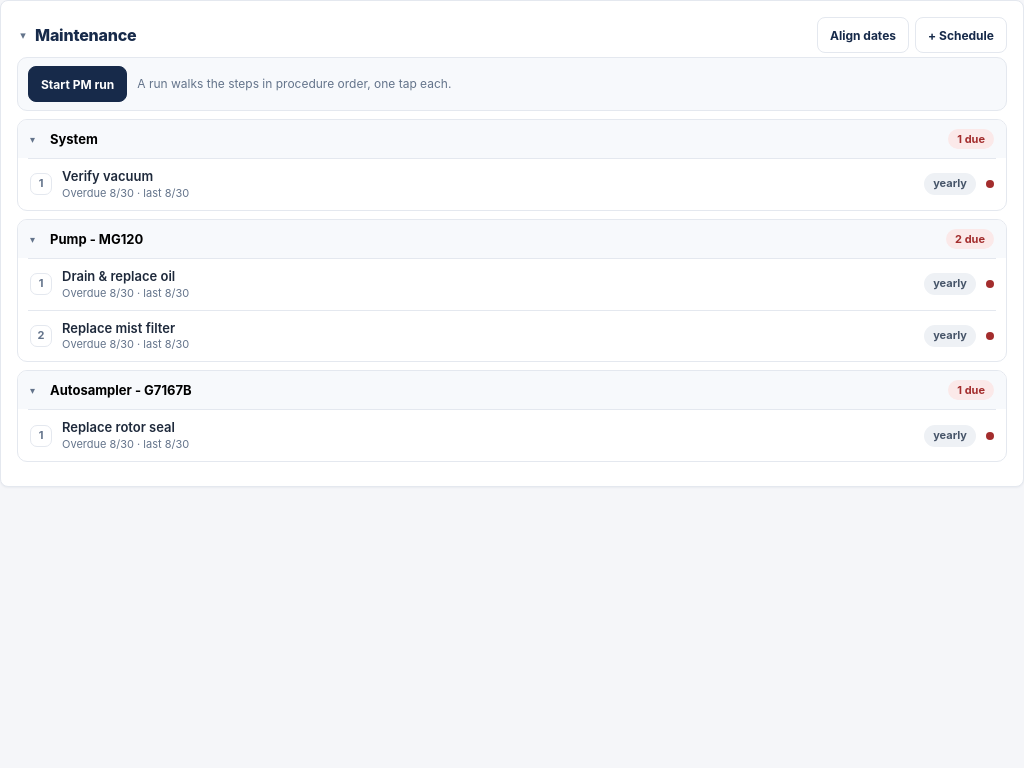
Test: the pile becomes modules › keeps the verbs off the row - they live behind it
Check: the text "Complete now" is not shown
Click the text "Drain & replace oil" at (119, 276), box [62,268,175,284]
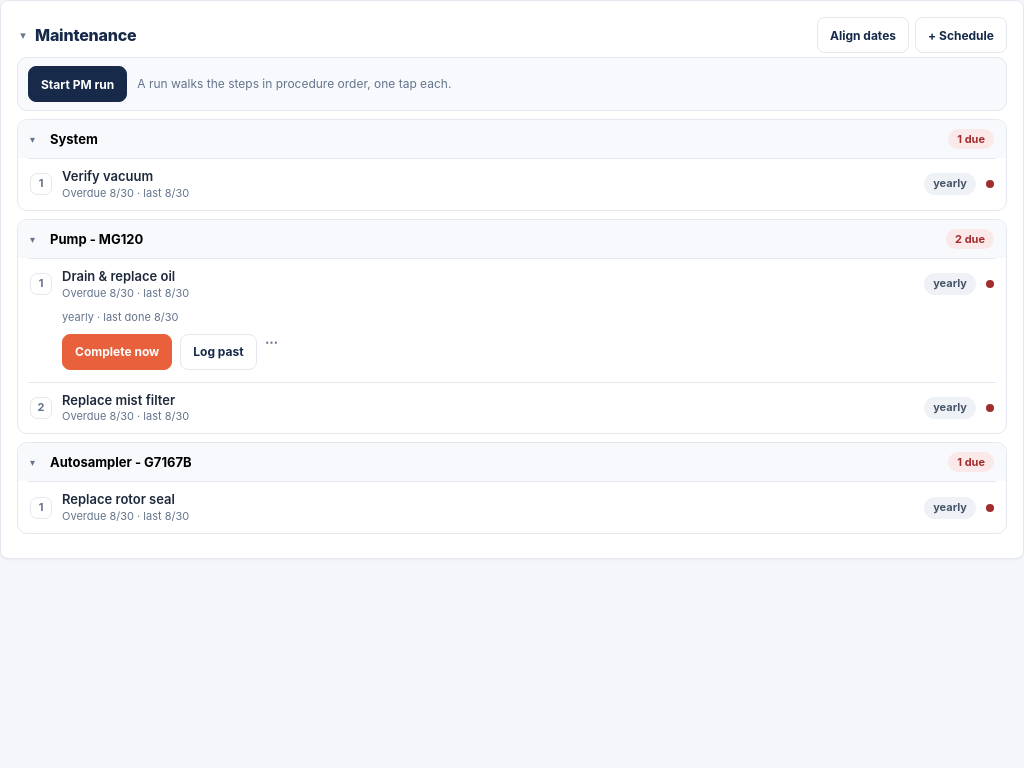
Check: the button "Complete now" is shown, box [62,334,172,370]
Check: the heading named "Actions for Drain & replace oil" is shown, box [265,334,279,350]
